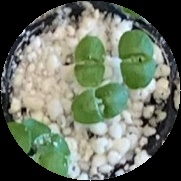Basil: (12, 120, 69, 175), (71, 85, 129, 121), (121, 31, 154, 89), (79, 34, 103, 90)
